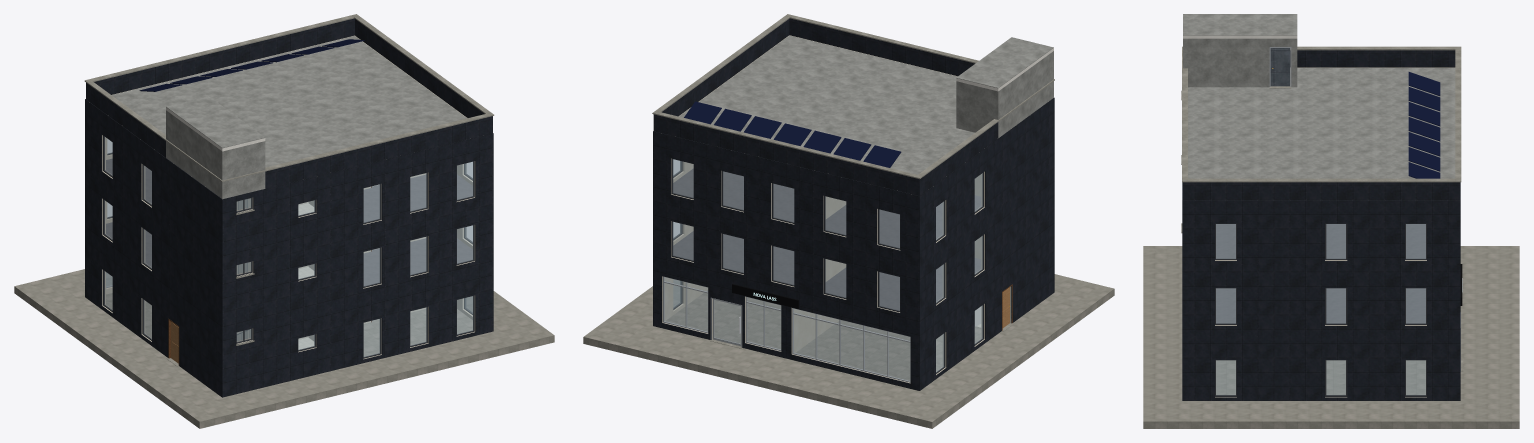
File: b_startup_hq.gltf
3 renders of one model, left to right at view 1: azimuth 30°, elevation 25°; view 2: azimuth 150°, elevation 25°; view 3: azimuth 270°, elevation 25°, orthographic. The views are drawn at different scales.
Parts seen in each view (by area): view 1: S_startup_hq; view 2: S_startup_hq, D_startup_hq_F1_S3_Door0; view 3: S_startup_hq, D_startup_hq_PH_W0_Door0.
Boxes of the visible parts, box(x1,y1,x2,y2) form: S_startup_hq: box(14, 14, 554, 428); S_startup_hq: box(583, 14, 1114, 428); D_startup_hq_F1_S3_Door0: box(712, 299, 741, 346); S_startup_hq: box(1143, 14, 1519, 428); D_startup_hq_PH_W0_Door0: box(1270, 48, 1289, 86).
Size of the model in its own units: 21 by 14.5 by 19.
21 materials, 11 textured.
